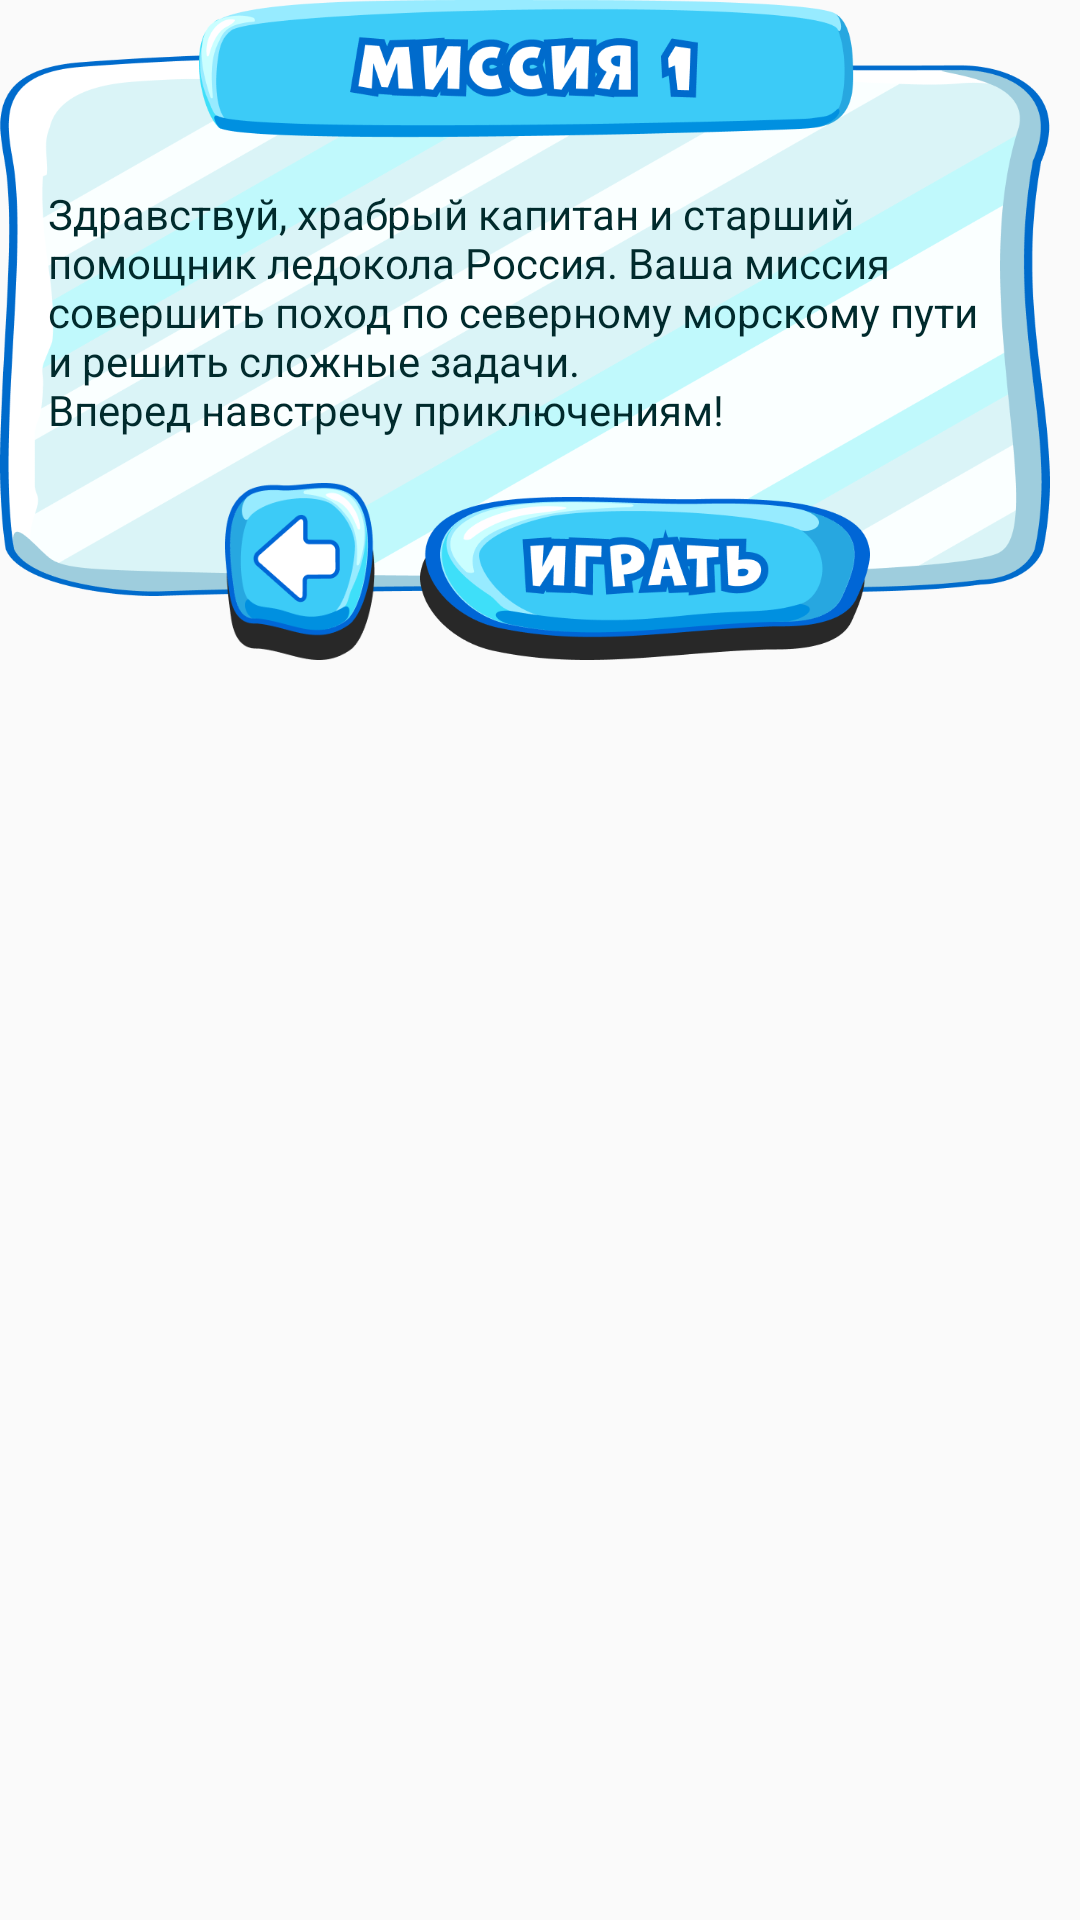

Icons on this 1080px×1920px Android screen, each with the point to tap as (x,y):
back: (300,571)
